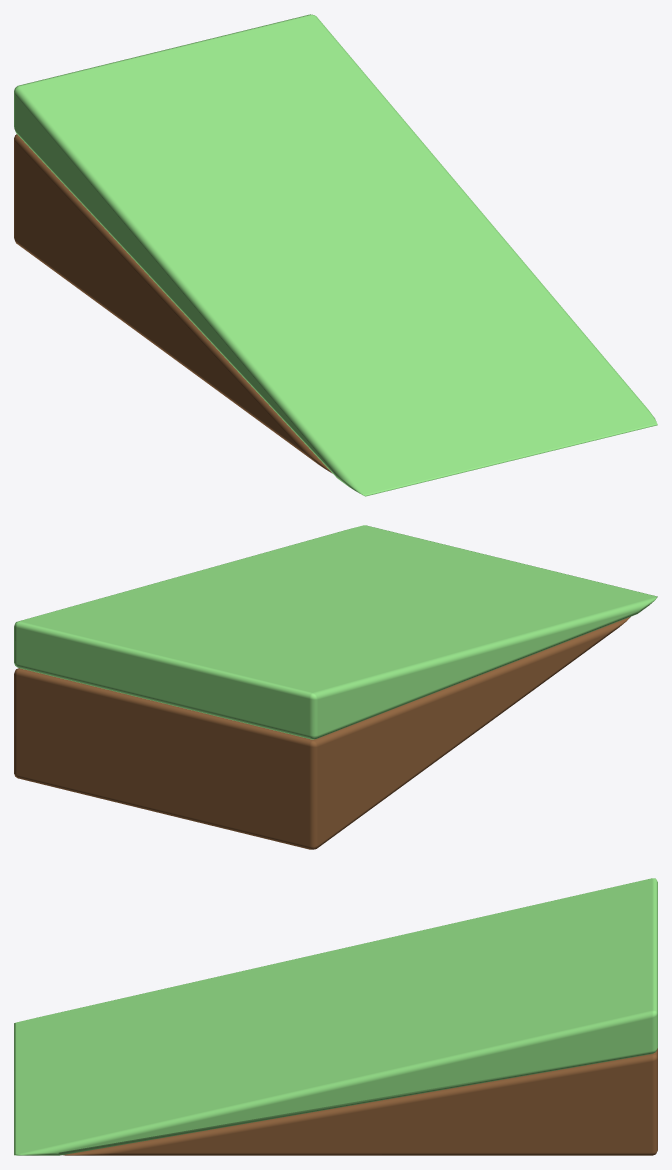
File: Ramp - Upper - 0.5x2.glb
3 renders of one model, top to bottom at view 1: azimuth 30°, elevation 25°; view 2: azimuth 150°, elevation 25°; view 3: azimuth 270°, elevation 25°, orthographic. The views are drawn at different scales.
Parts seen in each view (by area): view 1: Ramp - Upper - 0.5x2; view 2: Ramp - Upper - 0.5x2; view 3: Ramp - Upper - 0.5x2.
Boxes of the visible parts, bbox=[...] form: Ramp - Upper - 0.5x2: bbox=[14, 14, 657, 496]; Ramp - Upper - 0.5x2: bbox=[14, 525, 657, 849]; Ramp - Upper - 0.5x2: bbox=[14, 878, 657, 1155].
Size of the model in its own units: 2 by 0.9911 by 3.98.
